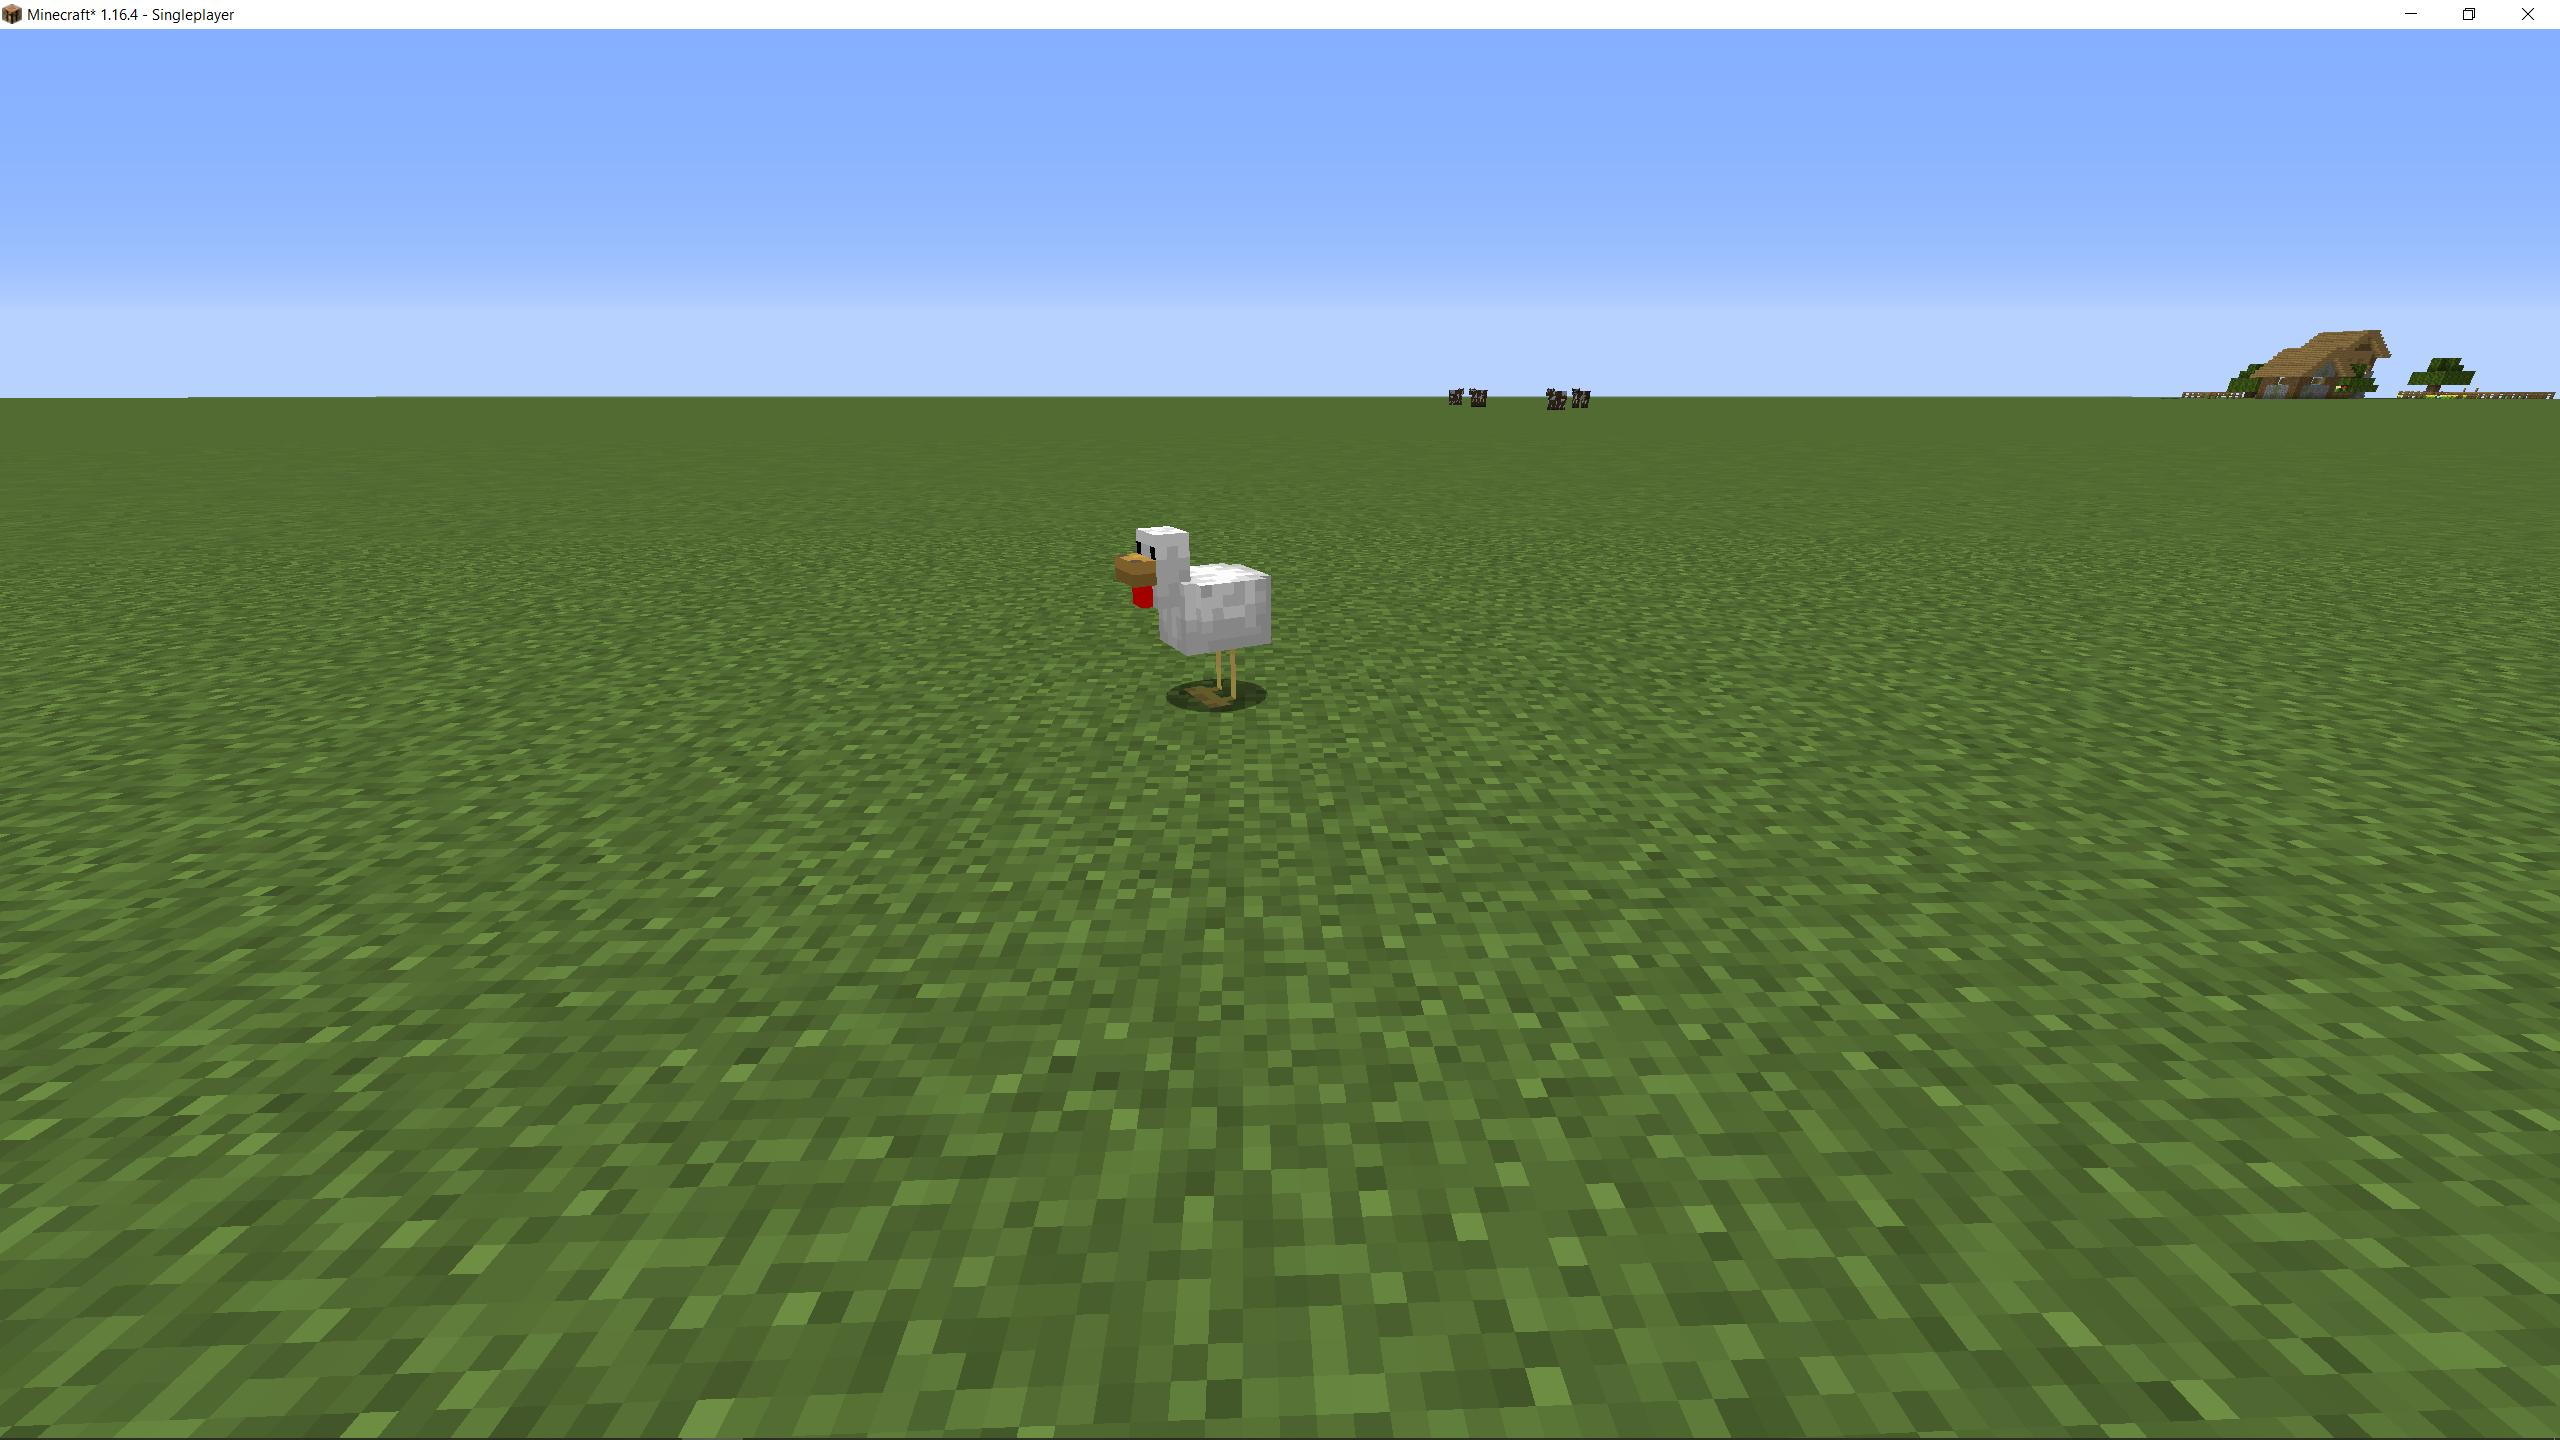chicken: (1115, 520, 1278, 710)
